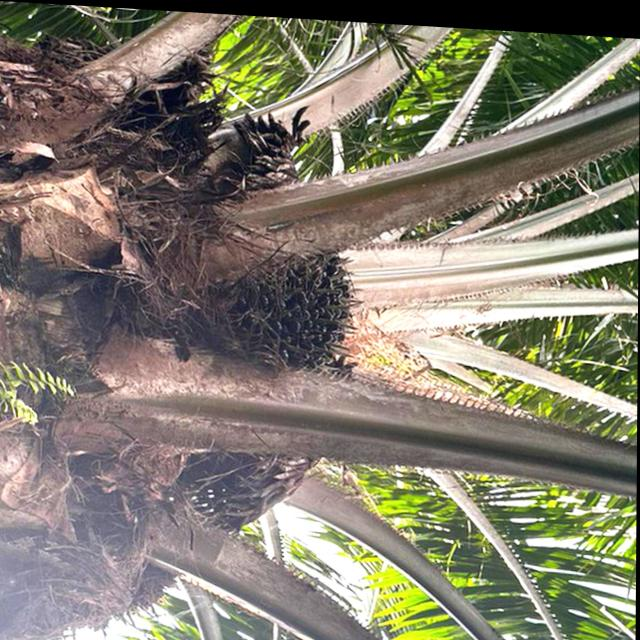unripe: (181, 228, 359, 385)
